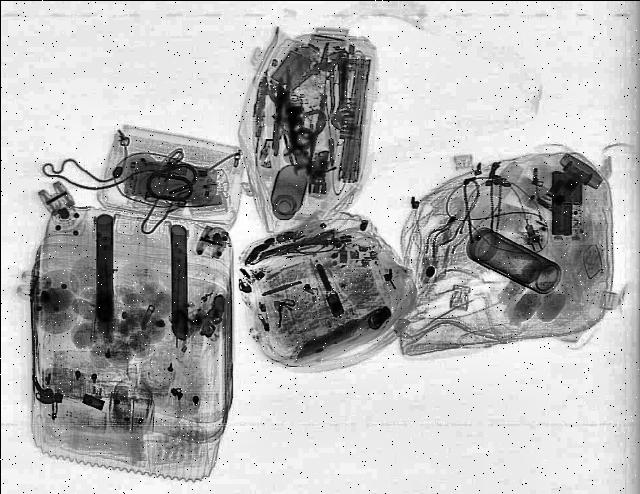Pliers: (283, 39, 362, 117)
Wrench: (279, 118, 315, 176)
